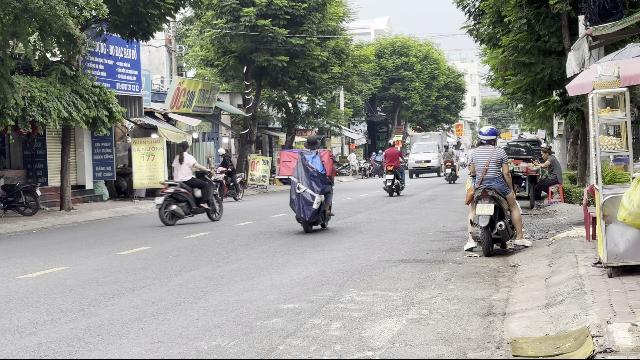helmet: (476, 126, 498, 146)
licenseplate: (476, 204, 494, 214)
motorcyclist: (461, 124, 525, 256), (153, 139, 223, 227), (285, 133, 337, 232)
nohelmet: (304, 134, 320, 150), (177, 140, 190, 152)
